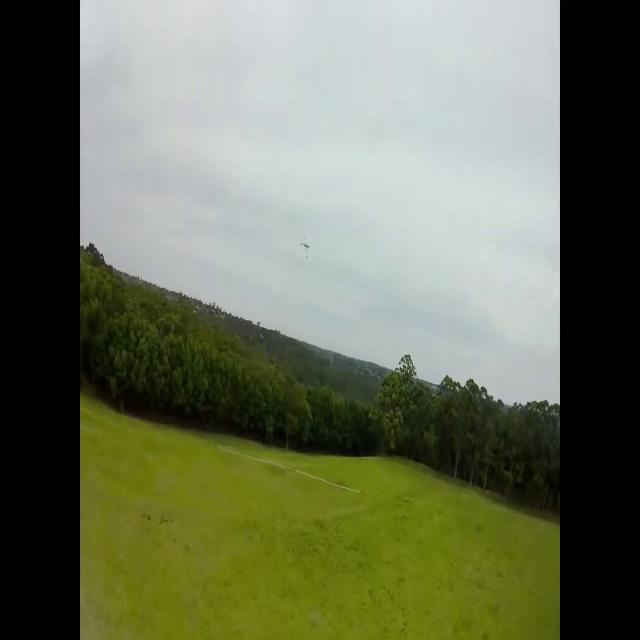iha: (303, 238, 308, 260)
